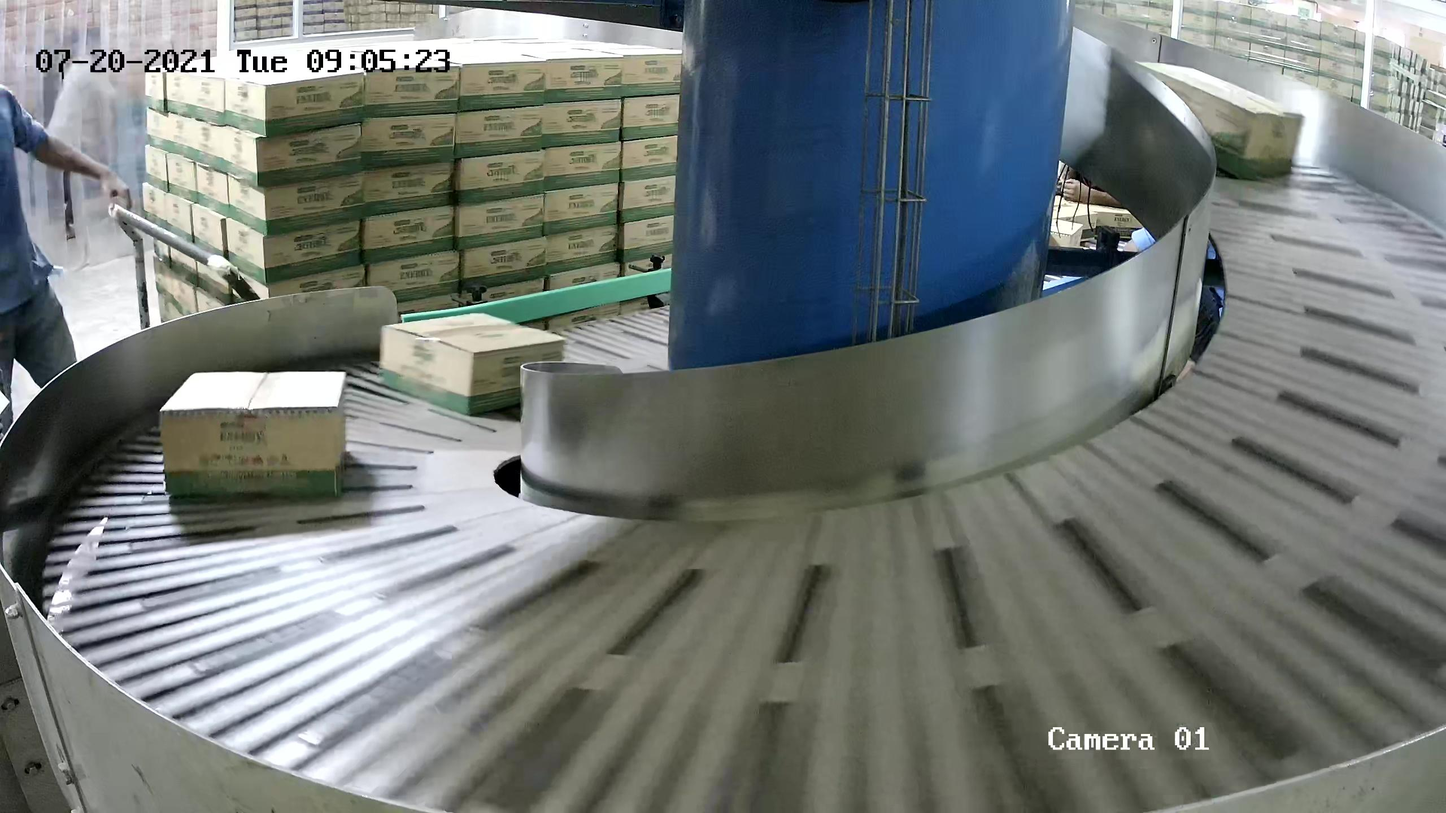Box: (157, 368, 347, 506), (1127, 56, 1308, 182), (378, 312, 568, 423)
